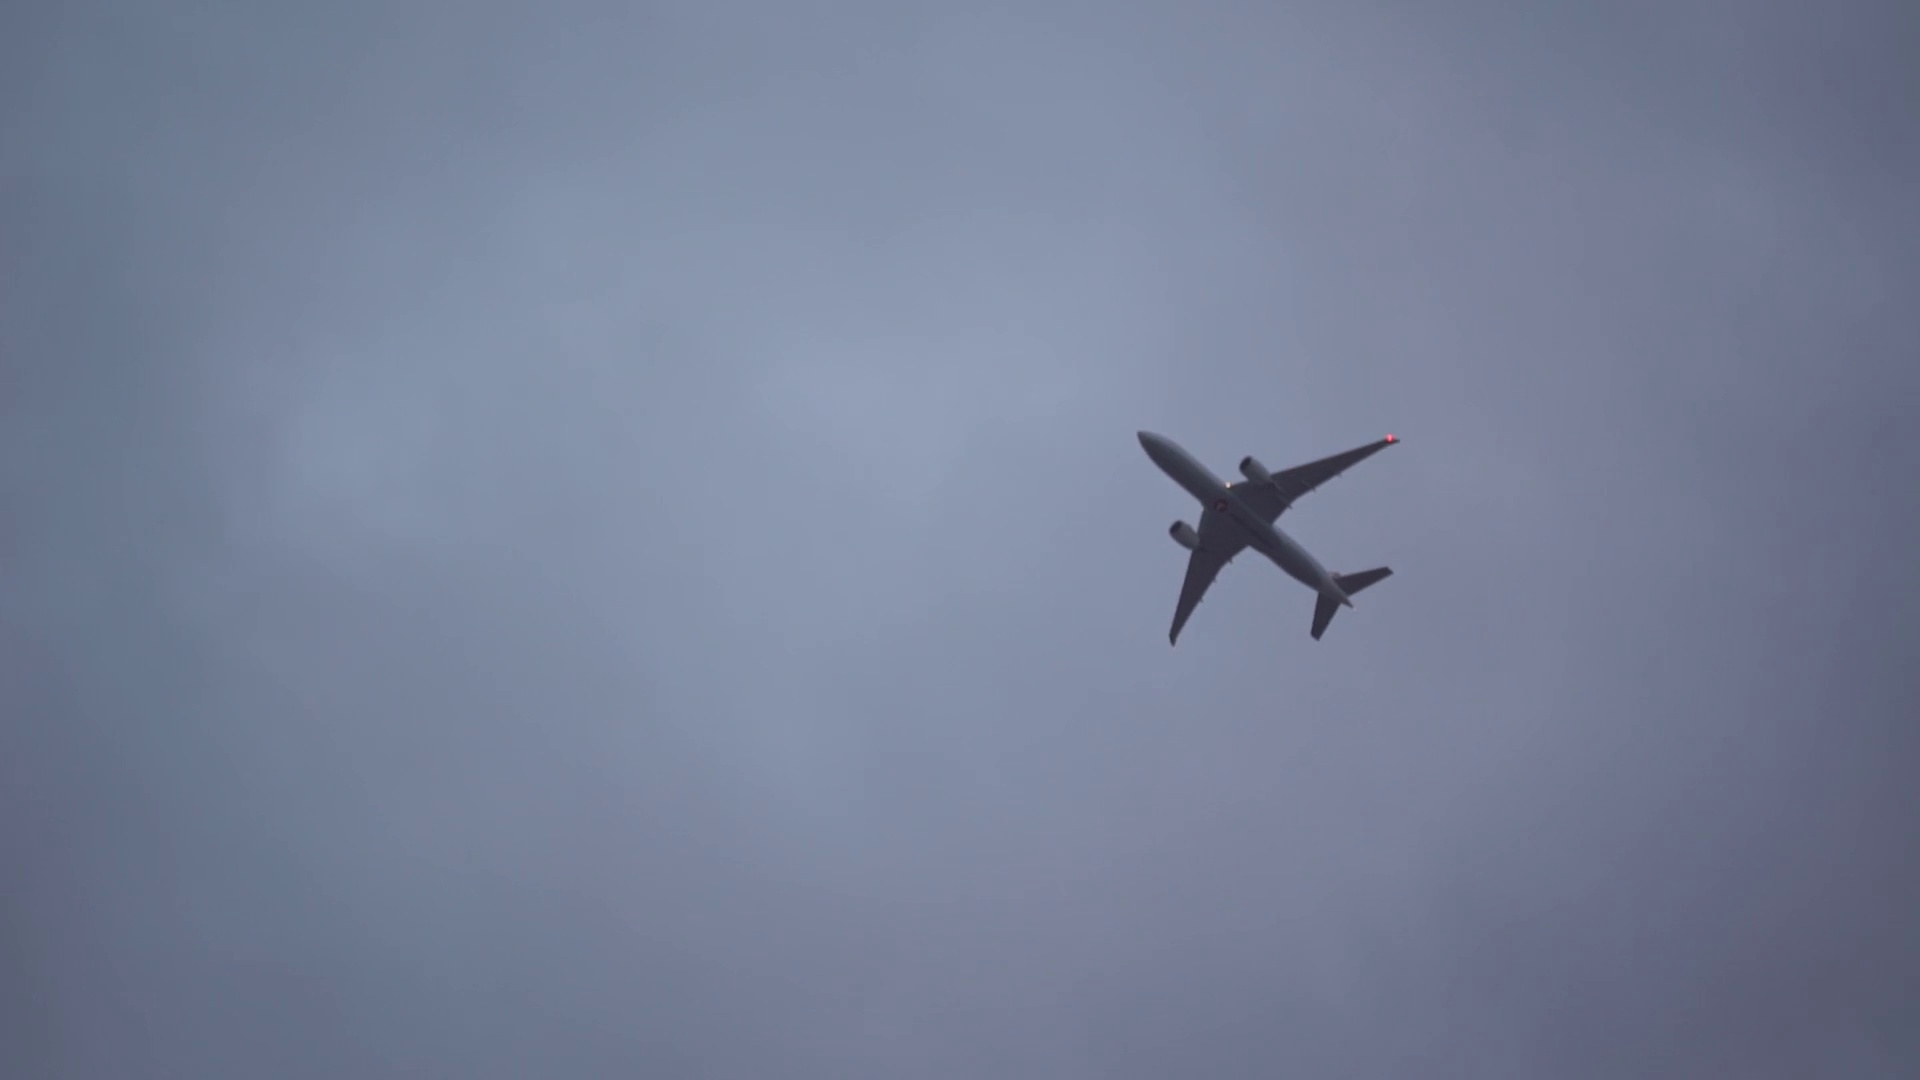plane: (1129, 429, 1399, 645)
